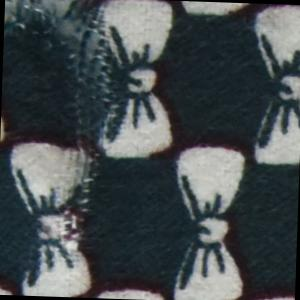Damage: (1, 1, 131, 262)
